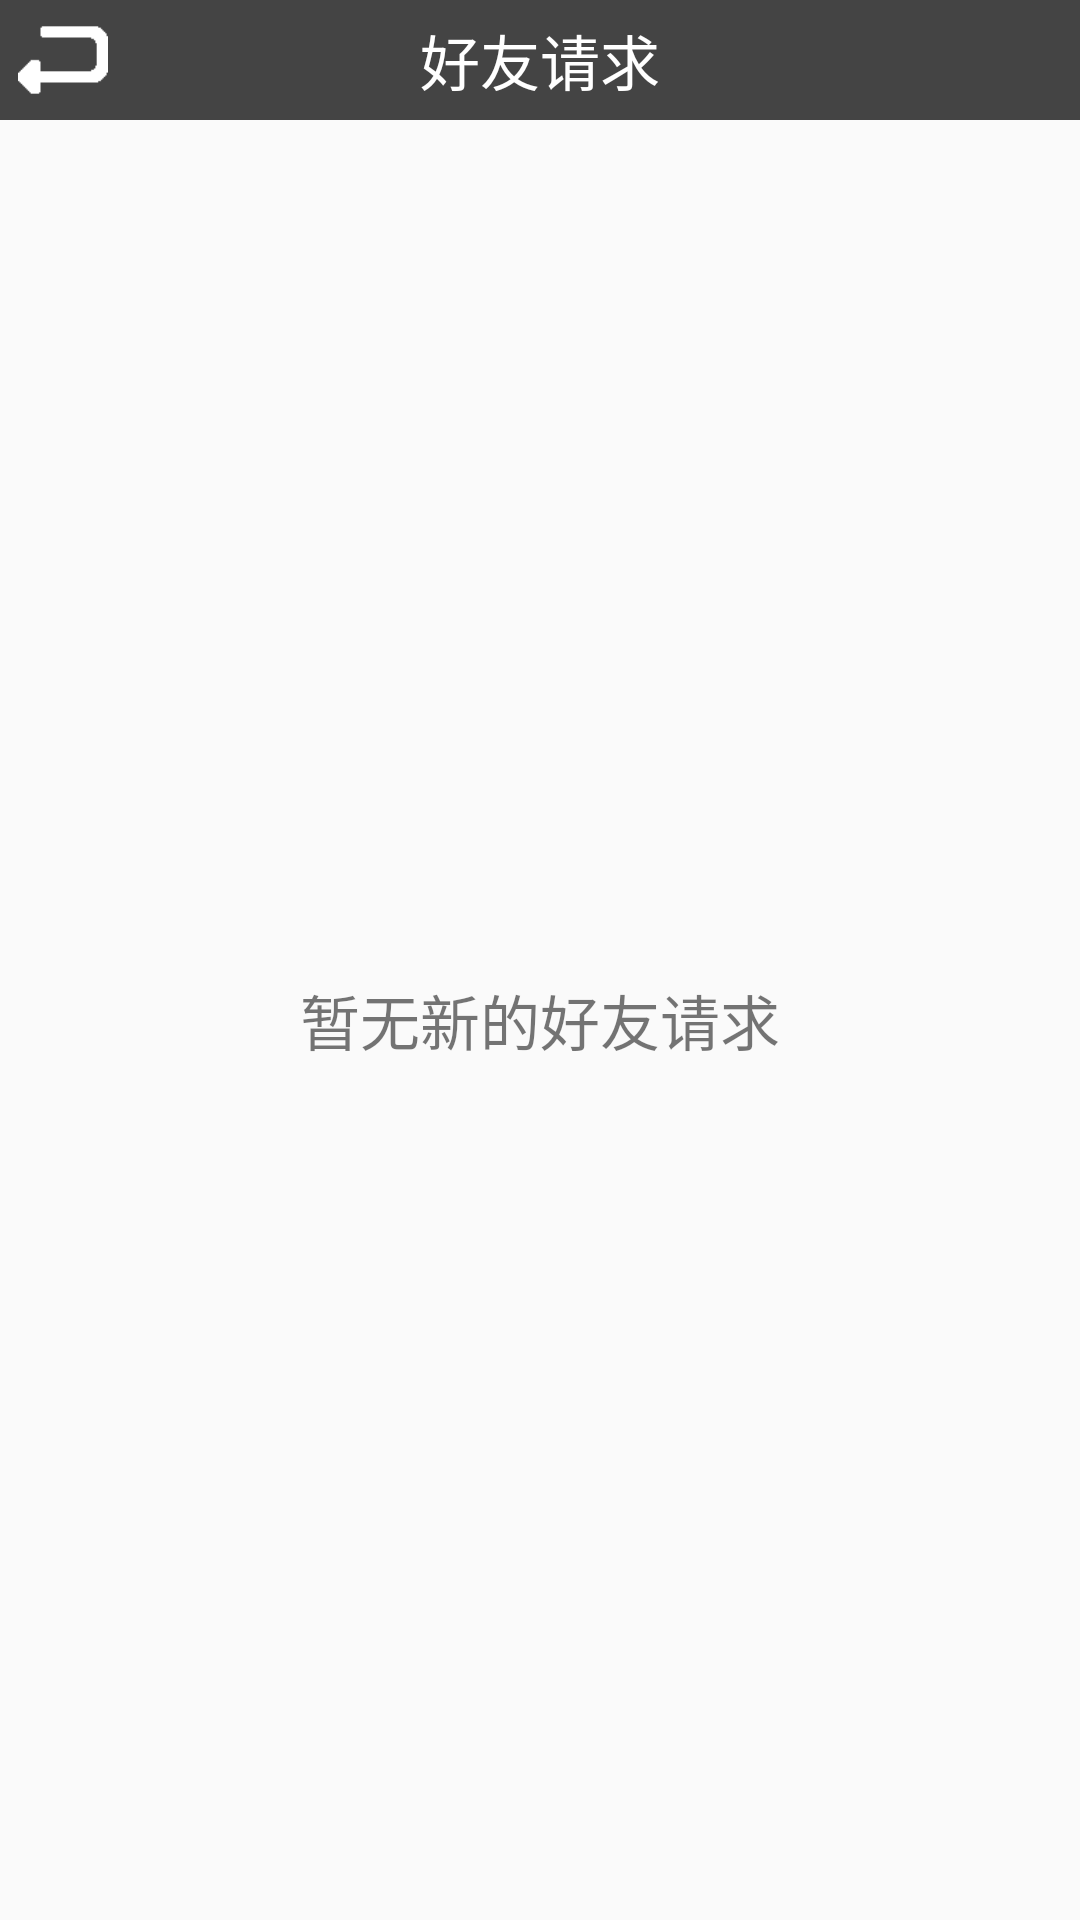

Where icons sit on this 1080px x 1920px app screen, as (x1, y1, x2, y2):
back: (18, 26, 108, 94)
